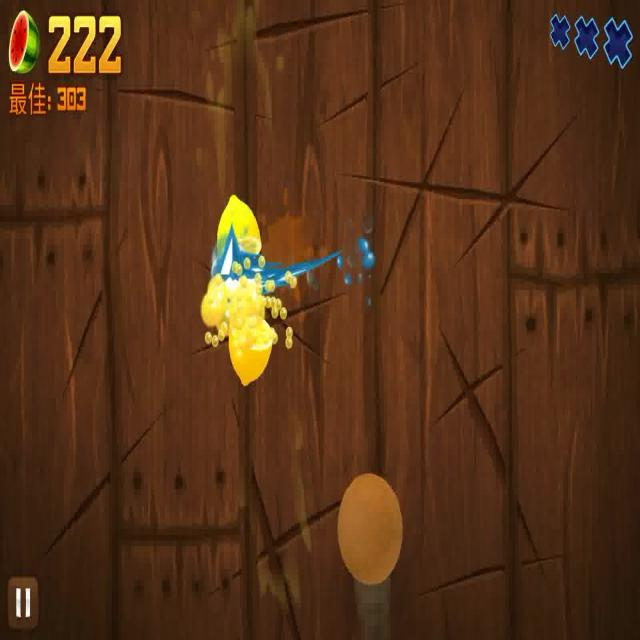fruit: (338, 474, 404, 587), (215, 191, 262, 267), (227, 312, 270, 388)
